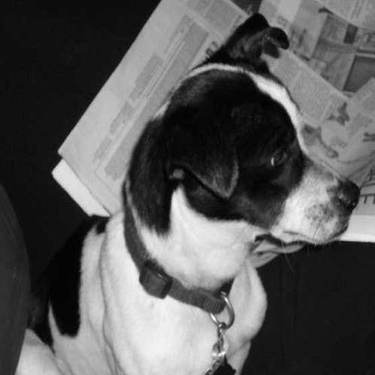dog: (10, 6, 356, 367)
